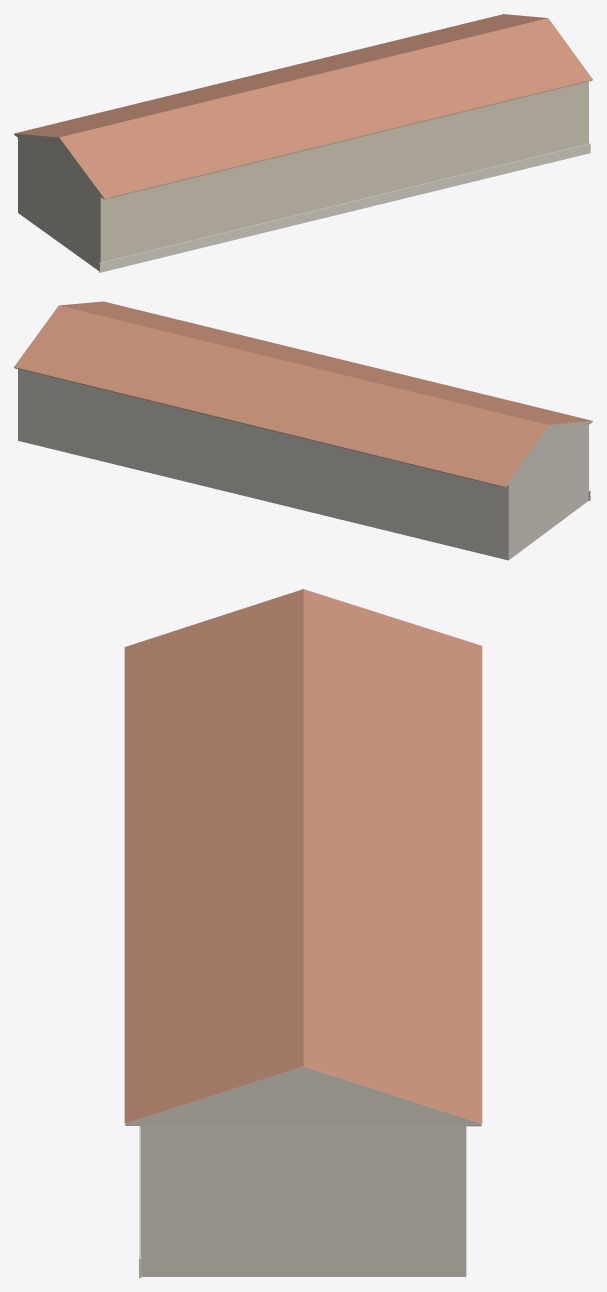
File: cpG1638.glb
3 views of the same model, one above another, from view 1: azimuth 30°, elevation 25°; view 2: azimuth 150°, elevation 25°; view 3: azimuth 270°, elevation 25° (orthographic). The views are drawn at different scales.
Parts seen in each view (by area): view 1: CP_G1638_Roof, CP_G1638_Masonry, CP_G1638_Cornice_plinth_0, CP_G1638_Gable_L_gable, CP_G1638_Roof_EaveClosure_0; view 2: CP_G1638_Roof, CP_G1638_Masonry, CP_G1638_Gable_L_gable, CP_G1638_Roof_EaveClosure_1; view 3: CP_G1638_Roof, CP_G1638_Masonry, CP_G1638_Gable_R_gable.
Boxes of the visible parts, x1,y1,x2,y2 form: CP_G1638_Roof: (14,14,592,198); CP_G1638_Masonry: (18,81,588,270); CP_G1638_Cornice_plinth_0: (99,143,590,272); CP_G1638_Gable_L_gable: (14,133,110,198); CP_G1638_Roof_EaveClosure_0: (101,79,592,199); CP_G1638_Roof: (14,301,592,486); CP_G1638_Masonry: (18,369,588,560); CP_G1638_Gable_L_gable: (498,421,592,487); CP_G1638_Roof_EaveClosure_1: (14,367,507,487); CP_G1638_Roof: (124,589,482,1123); CP_G1638_Masonry: (140,1123,466,1276); CP_G1638_Gable_R_gable: (125,1066,481,1125).
Size of the model in its own units: 21.47 by 4.4 by 6.77.
